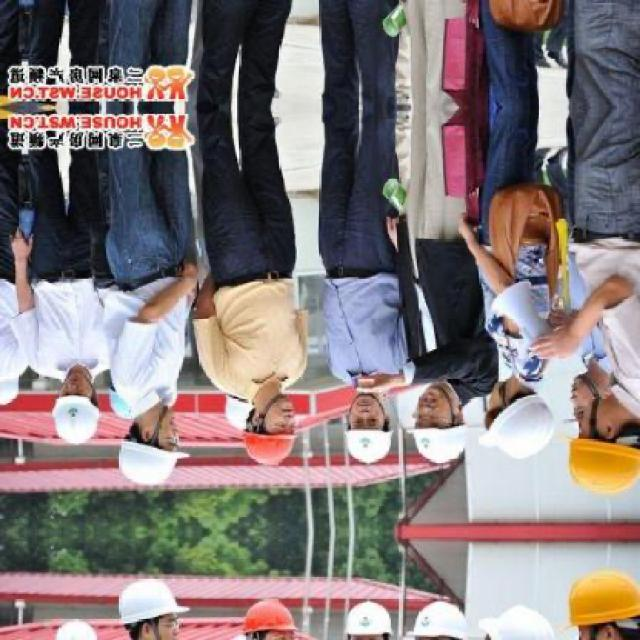con casco: (476, 390, 574, 474), (574, 397, 640, 499), (225, 394, 310, 472), (329, 402, 410, 464), (111, 415, 180, 487), (48, 387, 107, 447), (412, 417, 479, 467)
